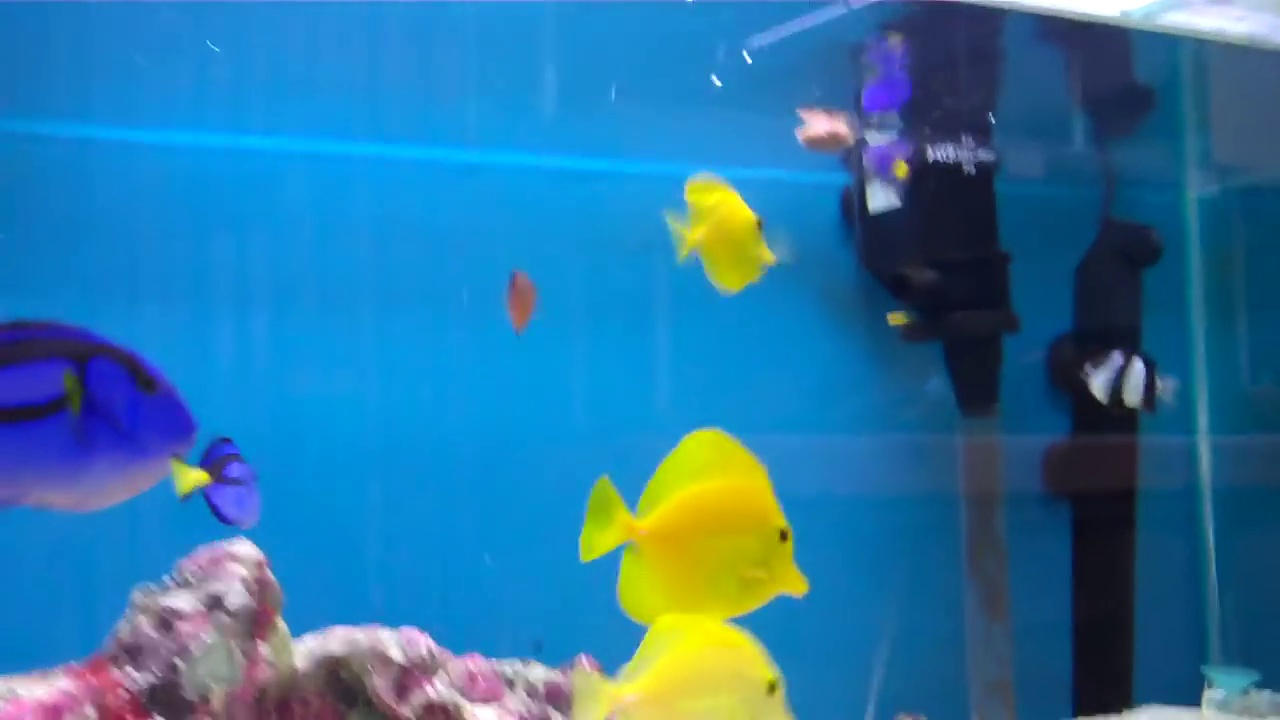blue tang surgeonfish: (0, 334, 217, 504), (154, 412, 274, 542)
saddle butterfly fish: (569, 419, 824, 620), (645, 152, 782, 299)
